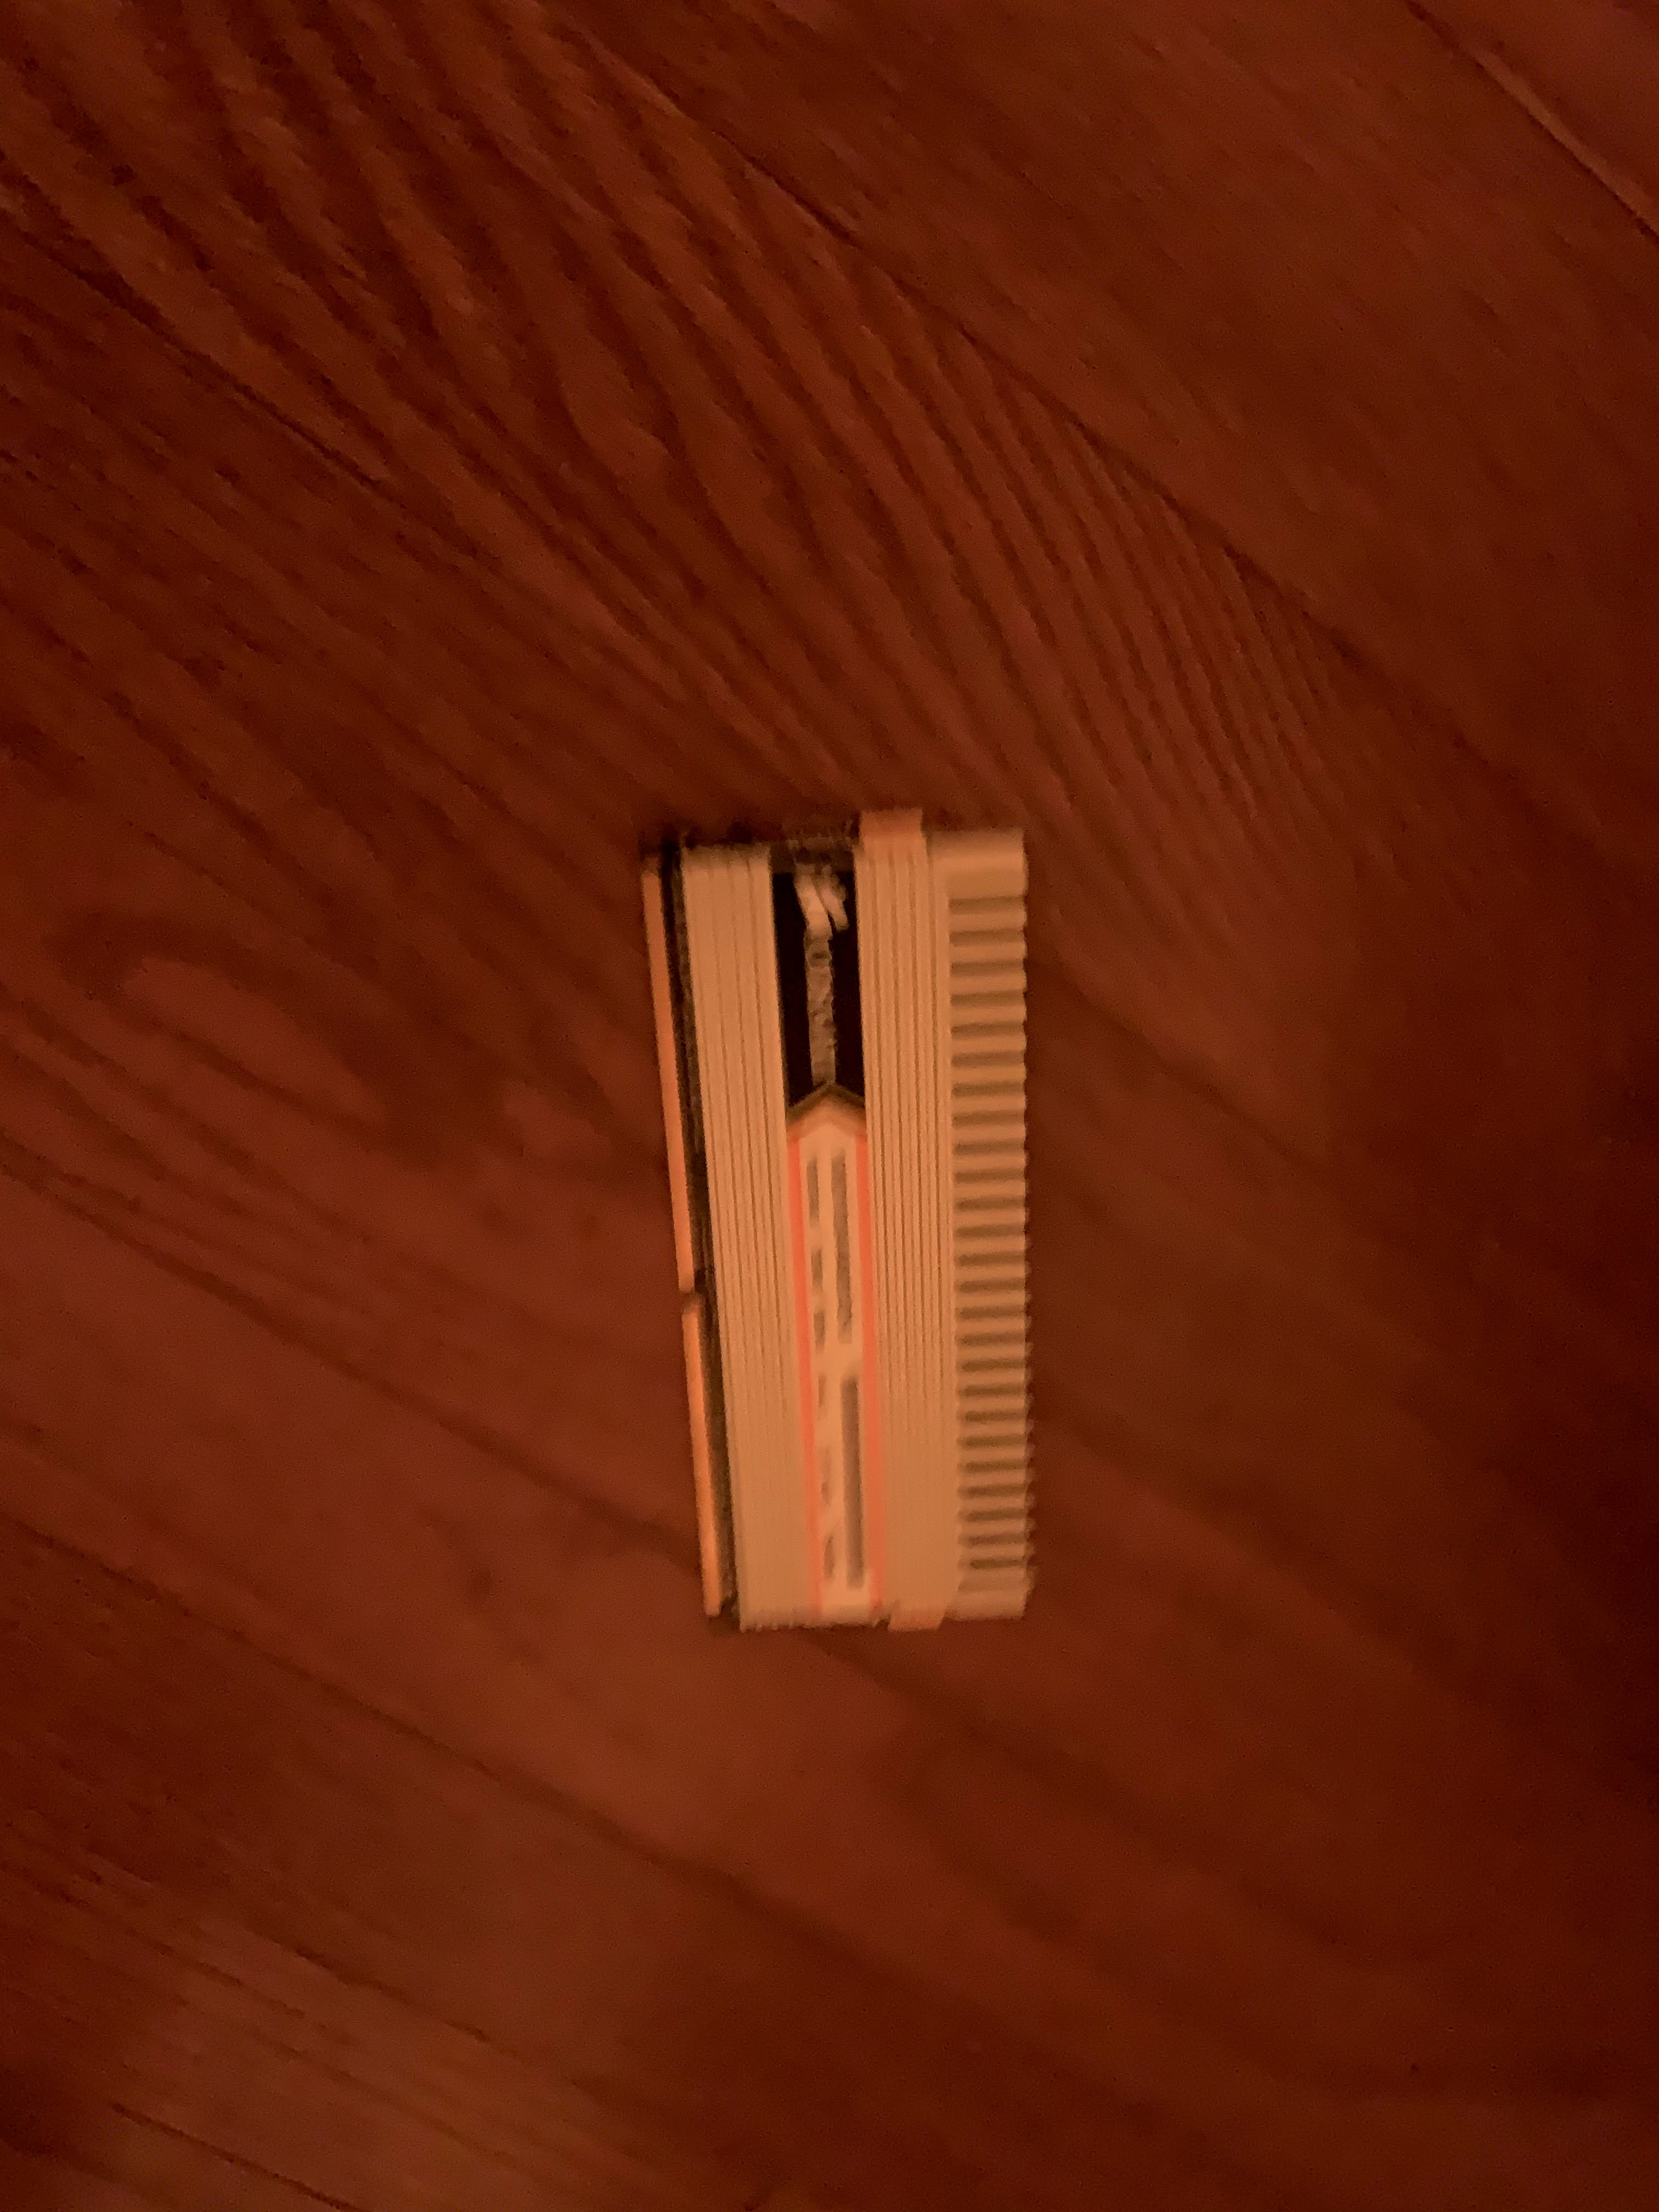Space-debris-medium: (608, 798, 1145, 1663)
